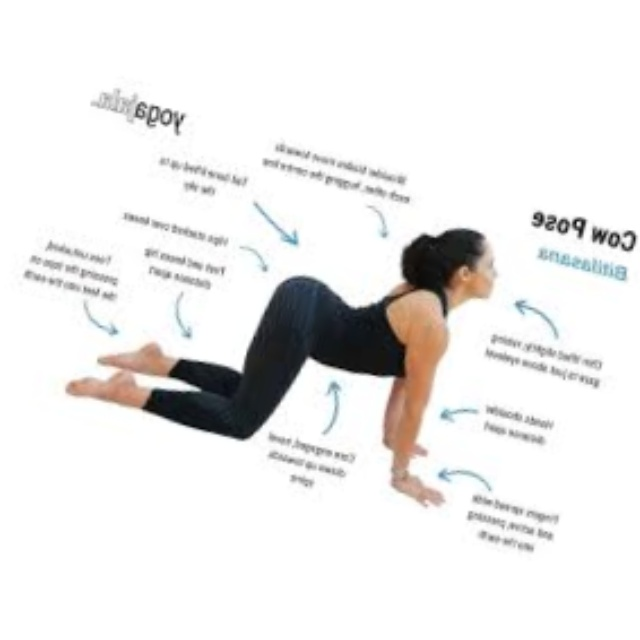Cow_Pose: (64, 227, 498, 510)
